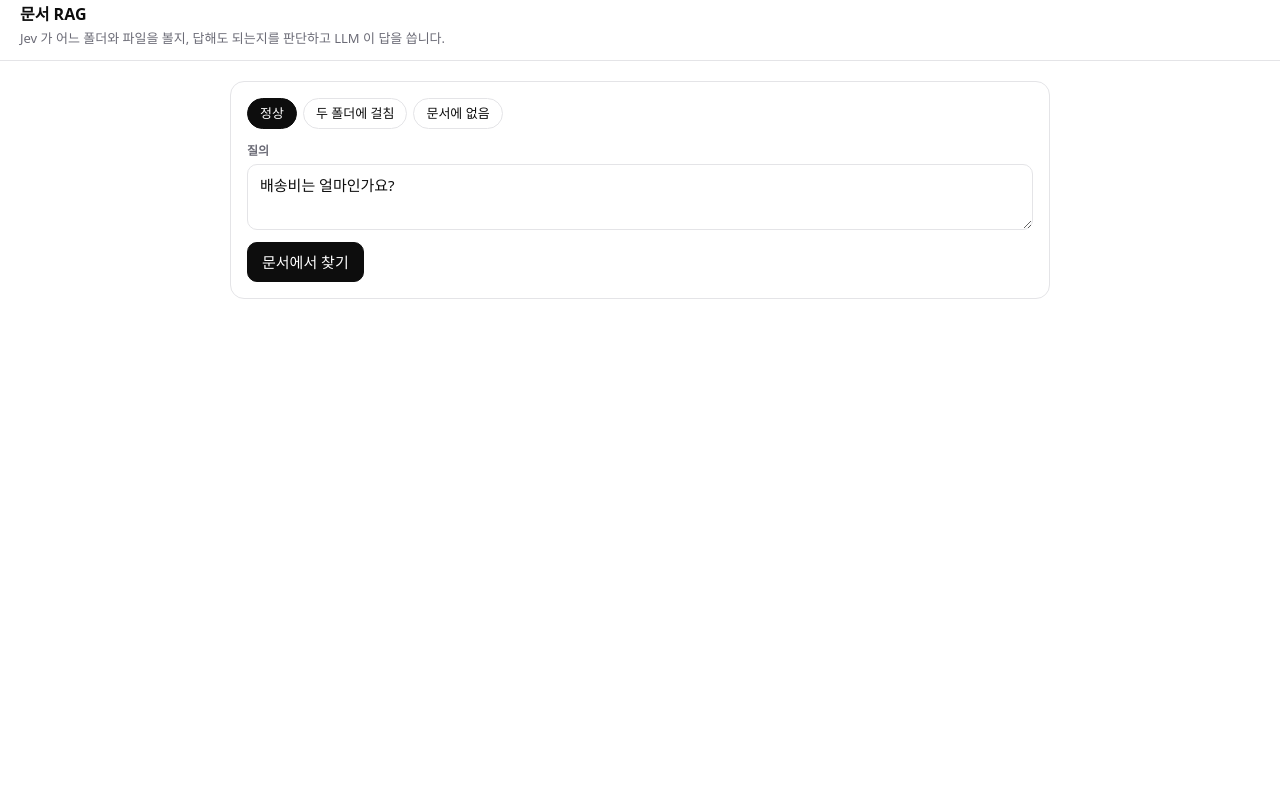
Test: RagTab › should say the LLM declined when Jev judged the passages sufficient but the run still ended insufficient
Click the button "문서에서 찾기": (305, 262) left=247, top=242, right=364, bottom=282
(page scrolled)
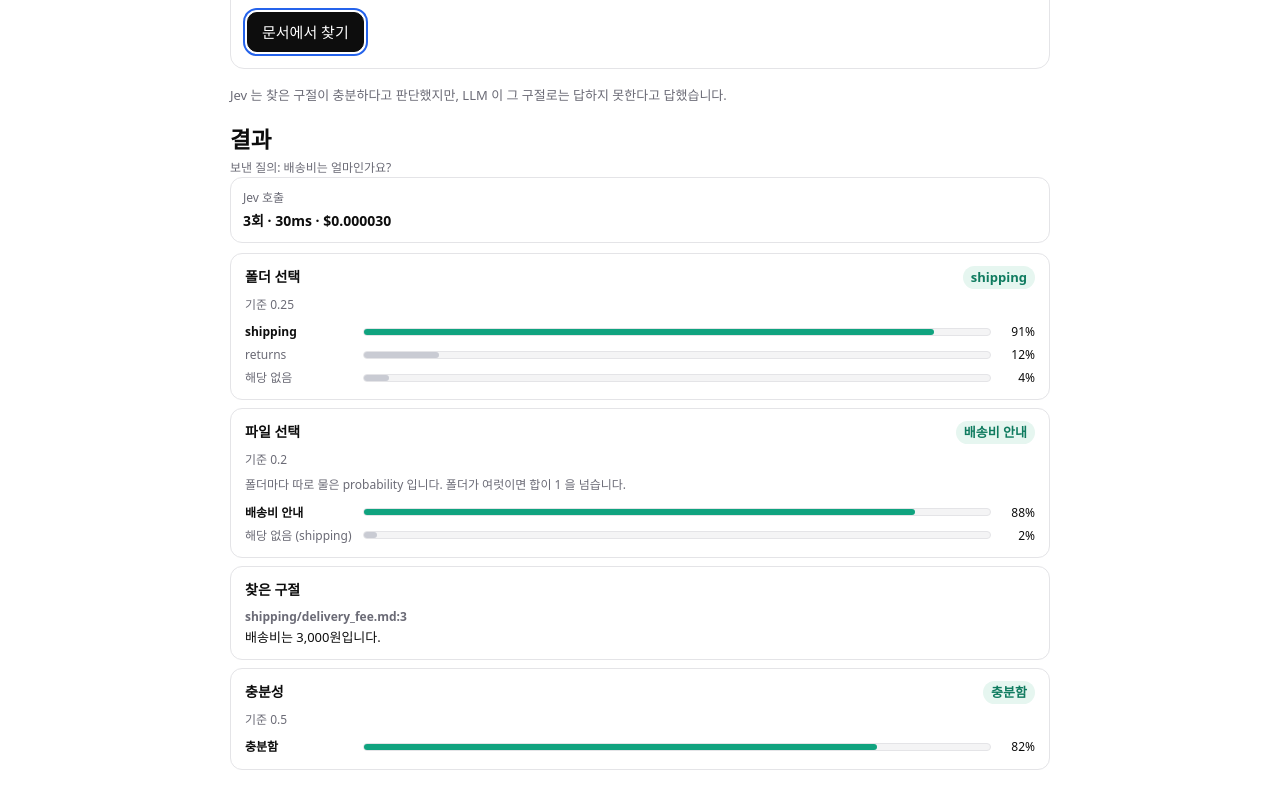
Check: the element named "RAG 결과" is shown, box left=230, top=122, right=1050, bottom=770
Check: the message reads "Jev 는 찾은 구절이 충분하다고 판단했지만, LLM 이 그 구절로는 답하지 못한다고 답했습니다.", box left=230, top=86, right=727, bottom=104
Check: the text "충분함" in the row of "충분성" is shown, box left=991, top=683, right=1027, bottom=701
